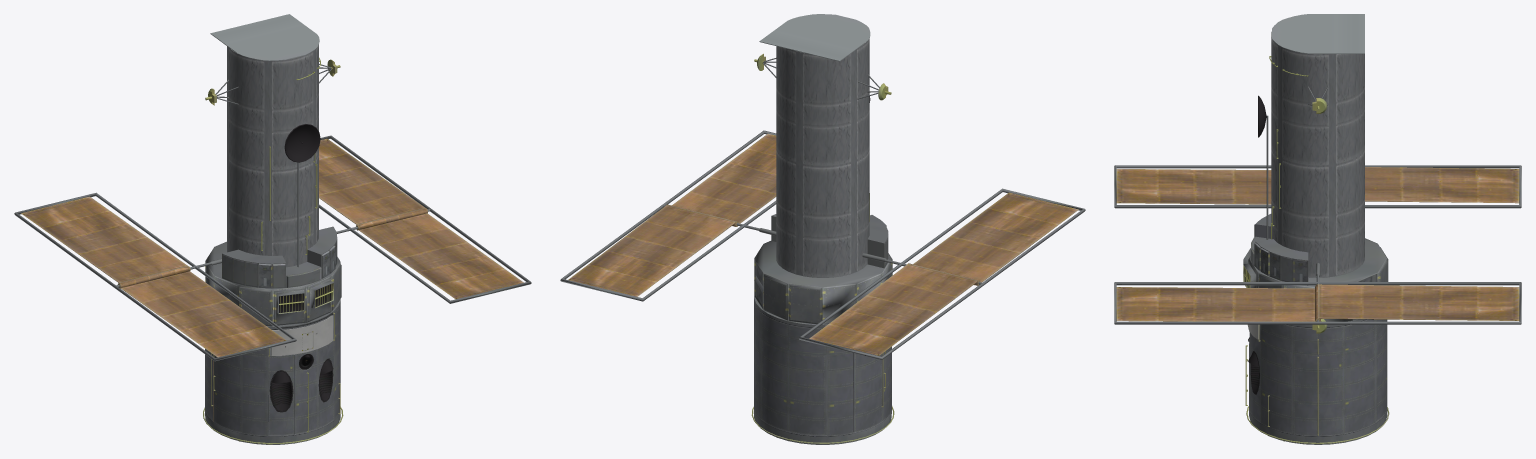
The model's file is hubble.glb.
3 renders of one model, left to right at view 1: azimuth 30°, elevation 25°; view 2: azimuth 150°, elevation 25°; view 3: azimuth 270°, elevation 25°, orthographic.
Visible parts, largest first — view 1: hst; view 2: hst; view 3: hst.
Boxes of the visible parts, x1,y1,x2,y2 form: hst: (14, 14, 531, 444); hst: (560, 14, 1085, 444); hst: (1114, 14, 1521, 444).
Size of the model in its own units: 458 by 525 by 501.
Materials: 5 (5 with a texture image).
